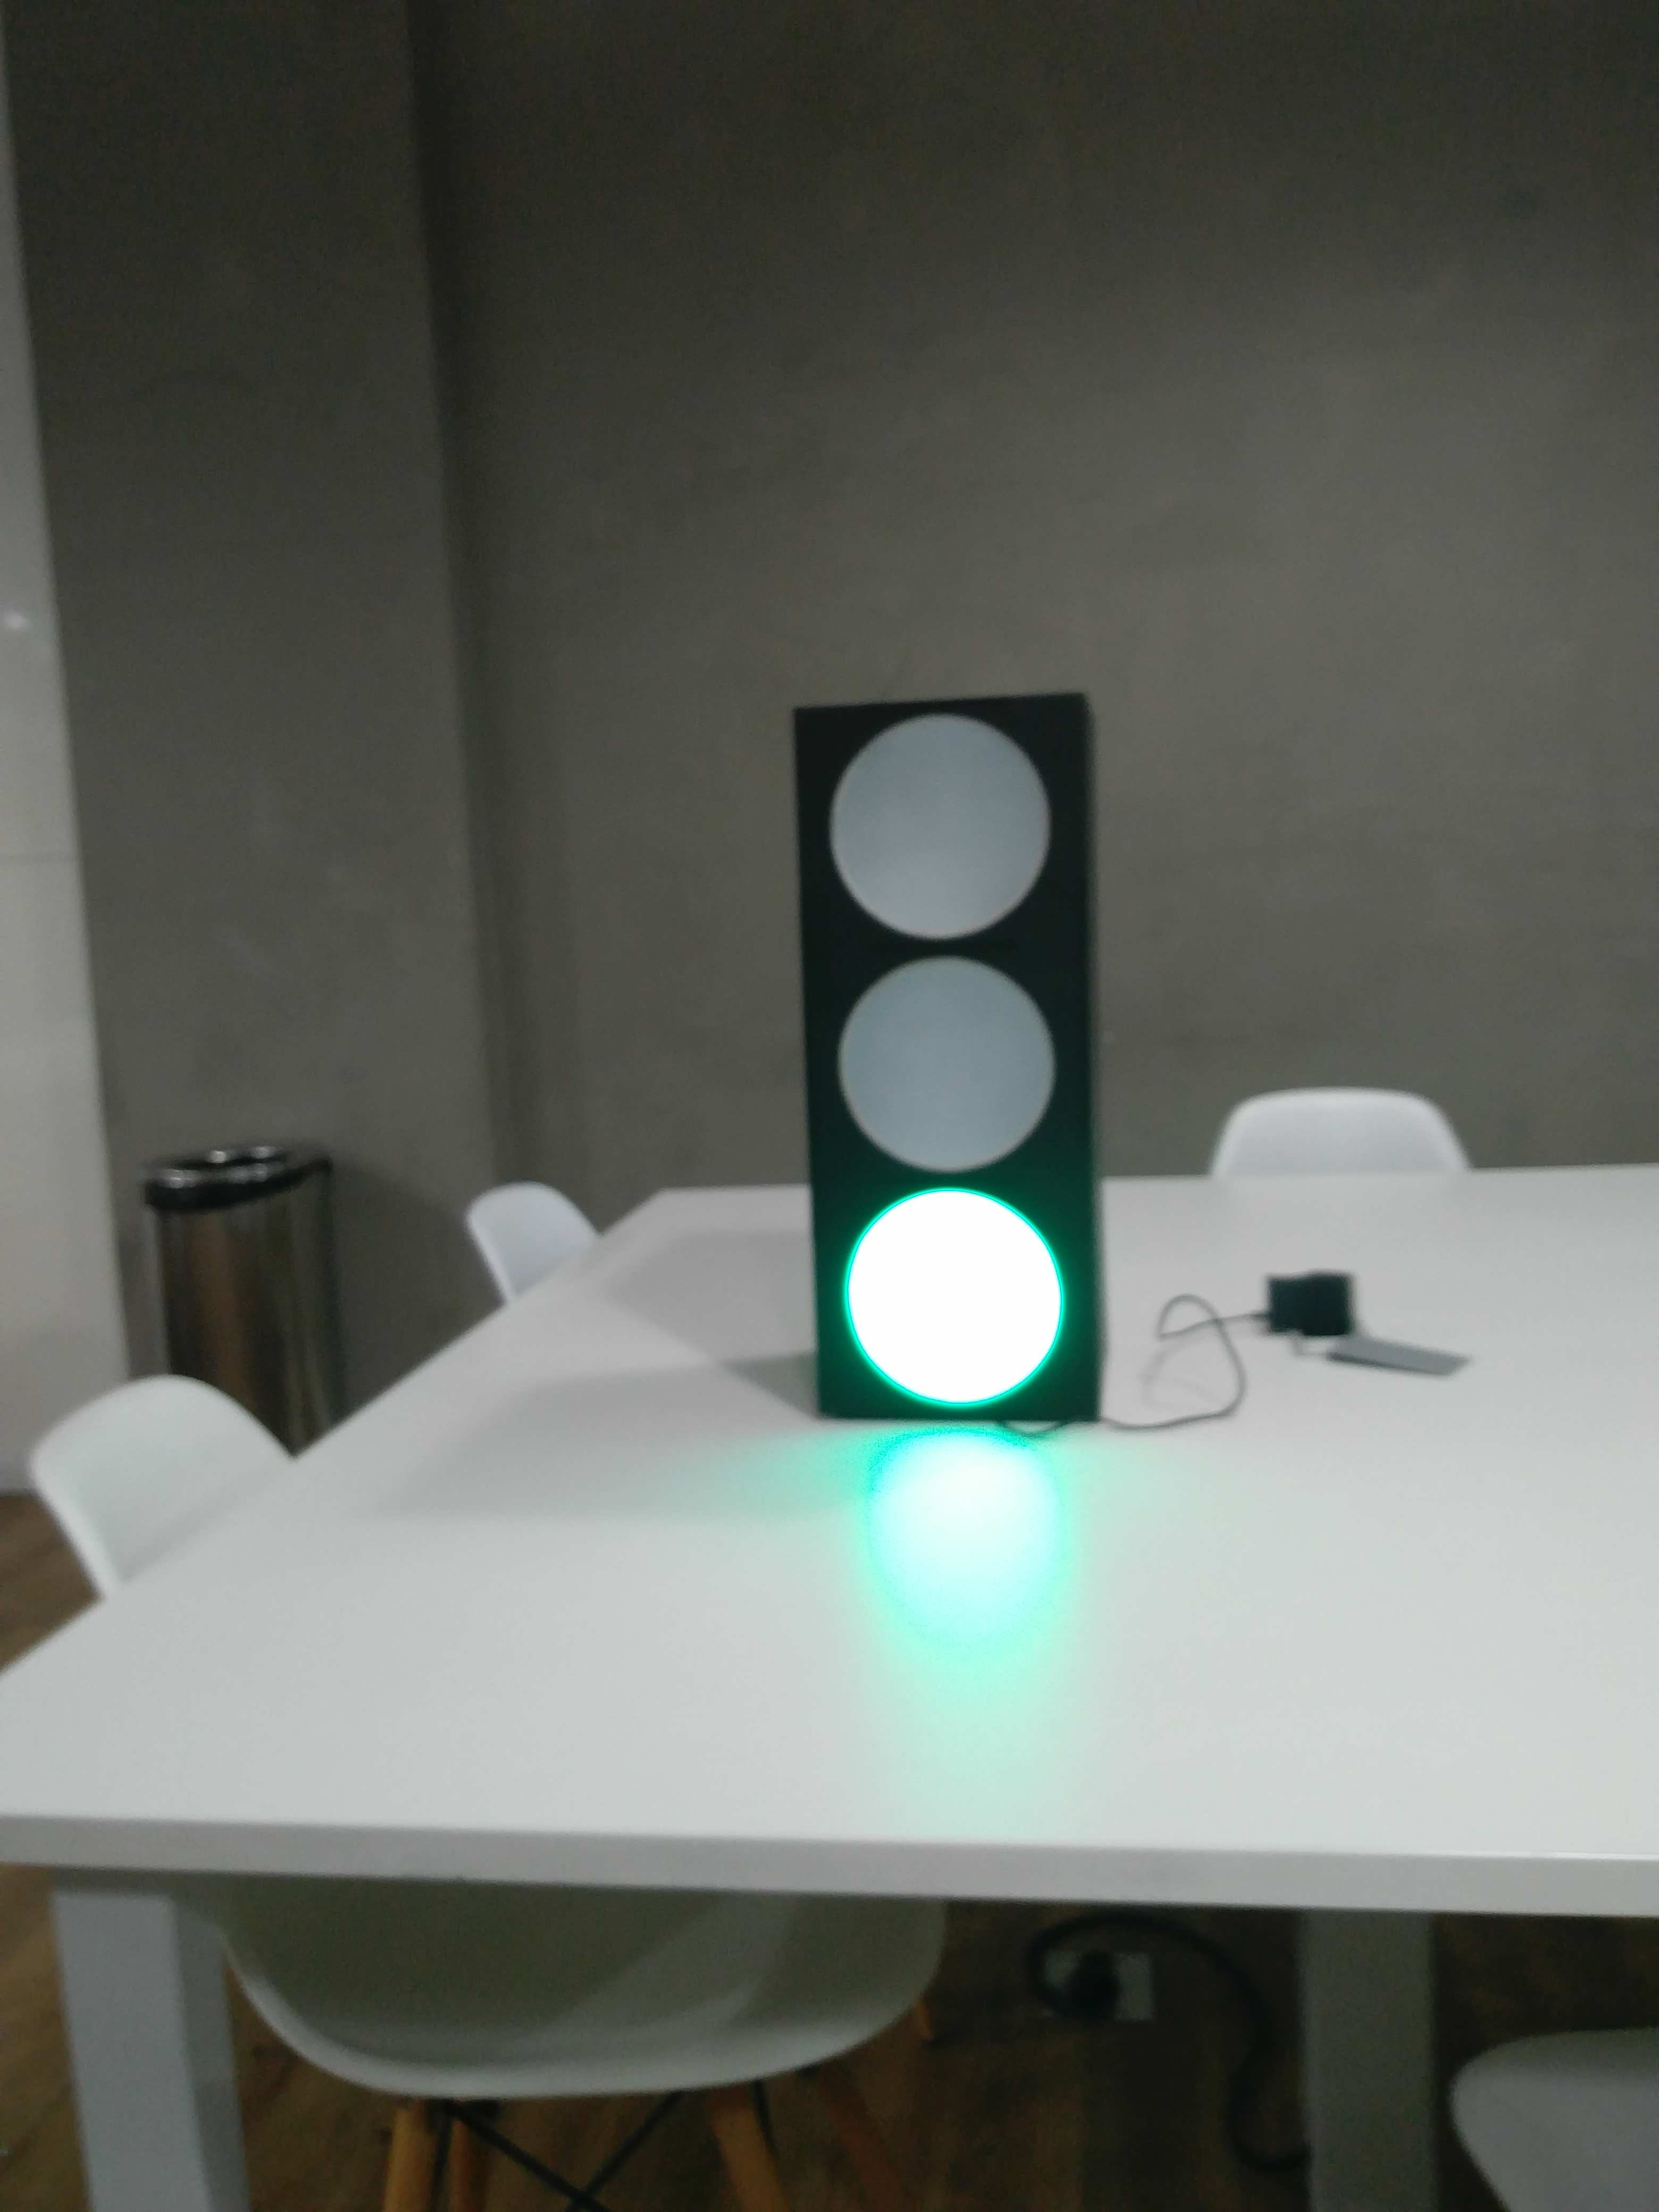go: (786, 688, 1105, 1423)
